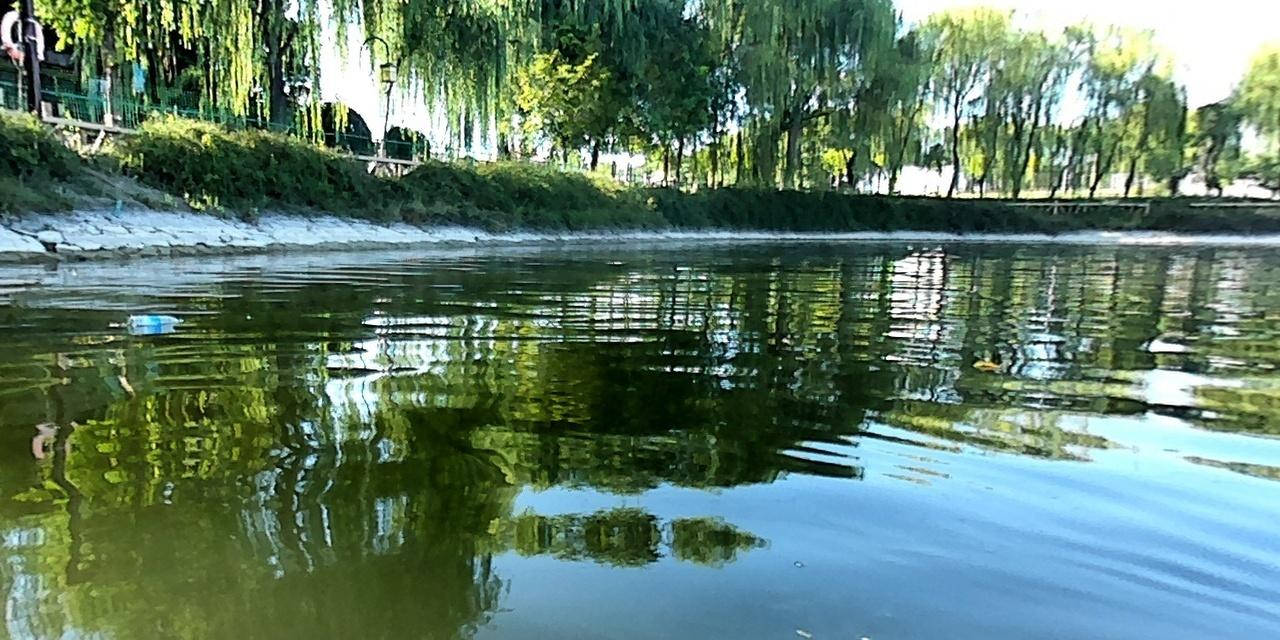bottle: (125, 309, 187, 330)
